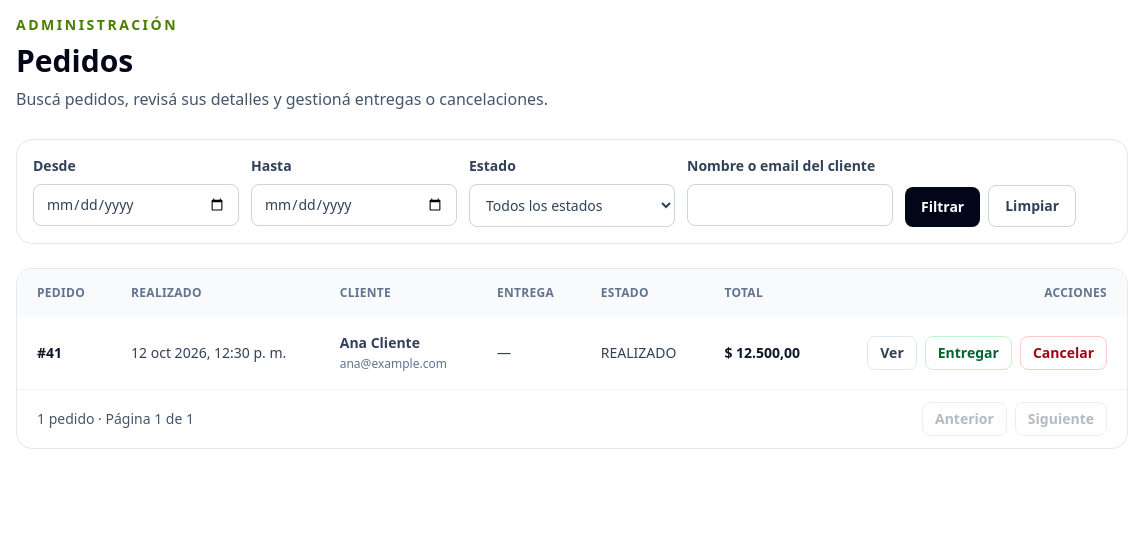
Scenario: consulta y gestión de pedidos › entrega pedidos realizados y refleja la confirmación de la API
Click the button "Entregar" at (968, 353), box x1=925 y1=336 x2=1012 y2=370
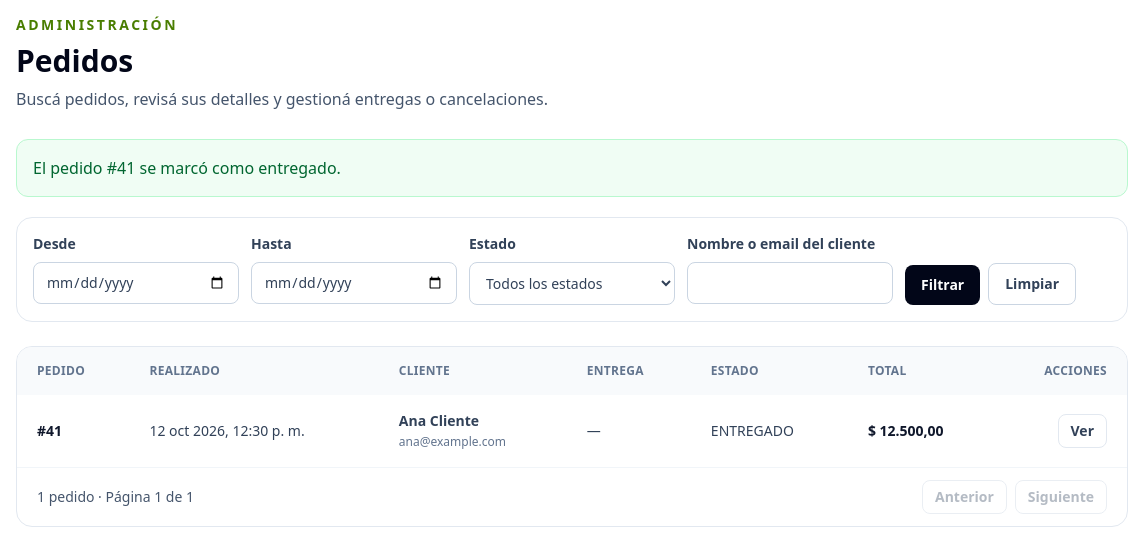
Expected: the message reads "El pedido #41 se marcó como entregado.", x1=33 y1=157 x2=341 y2=179
Expected: the text "ENTREGADO" is shown, x1=691 y1=395 x2=848 y2=467
Expected: the button "Cancelar" is gone
